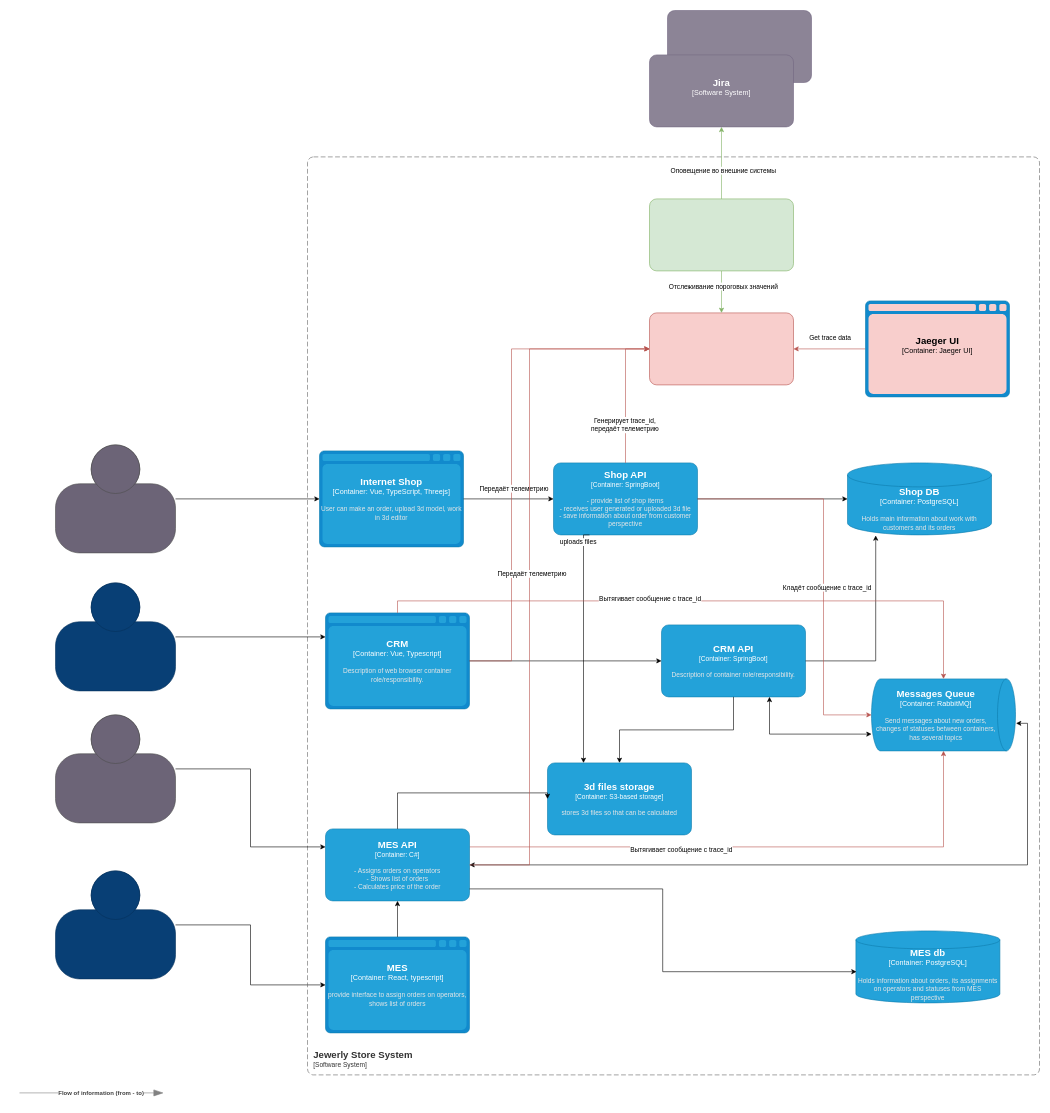
The diagram is 1050 pixels wide and 1113 high, and some of its shapes have lost their labels. The centre of each missing label's shape, as x and y in pixels:
Alertmanager [Container: ]: the point at 721,234
API user [Person] Description of external person.: the point at 115,768
Customer [Person] Description of external person.: the point at 115,498
Operator [Person] Takes order in work, manufactures jewerly: the point at 115,924
OTel collector [Container: Jaeger]: the point at 721,348
Seller [Person] Operates with order, confirms manufacturing for the user: the point at 115,636
Telegram [Software System]: the point at 739,46
